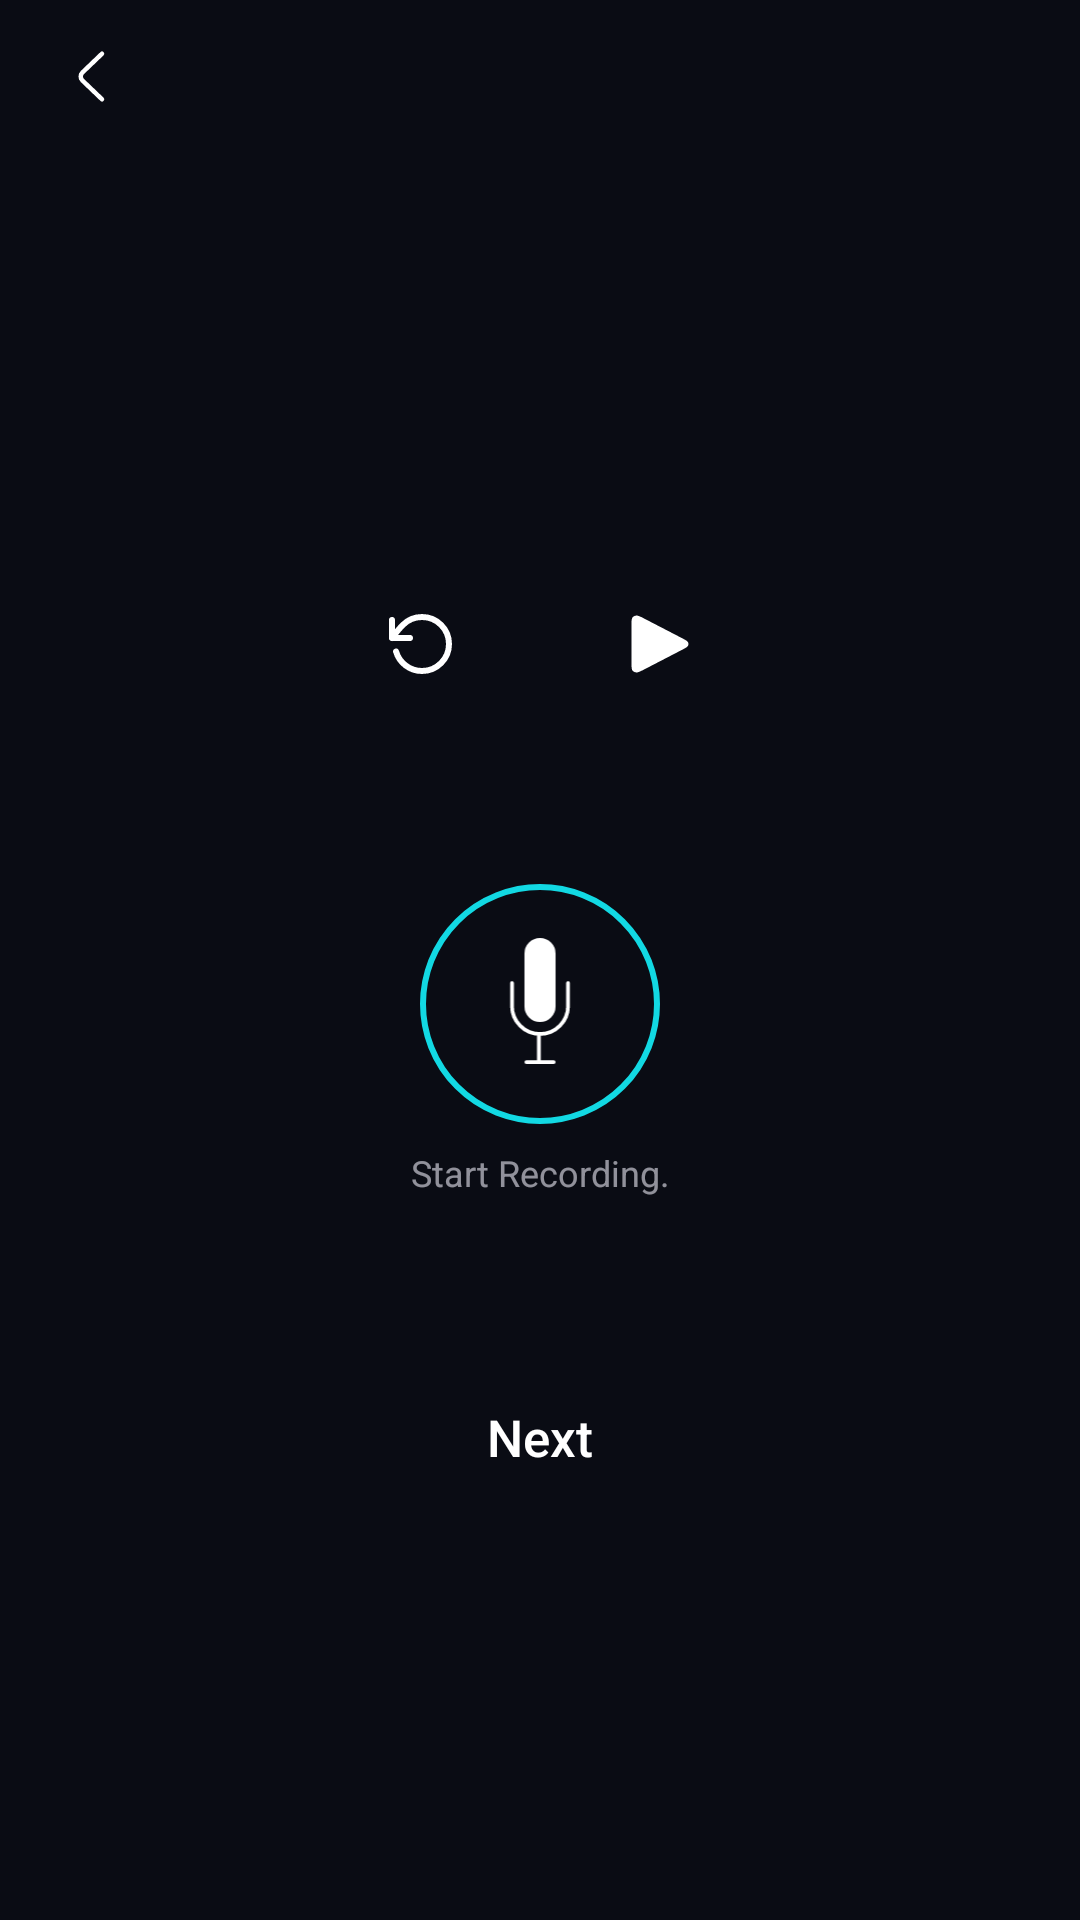

Icon bounding boxes for this 1080*1920 phone screenshot, format {"left": x1, "top": y1, "right": x2, "bottom": y2}:
back arrow: {"left": 78, "top": 51, "right": 105, "bottom": 102}
microphone: {"left": 420, "top": 884, "right": 660, "bottom": 1124}
play: {"left": 631, "top": 615, "right": 689, "bottom": 673}
retake: {"left": 389, "top": 614, "right": 452, "bottom": 674}
